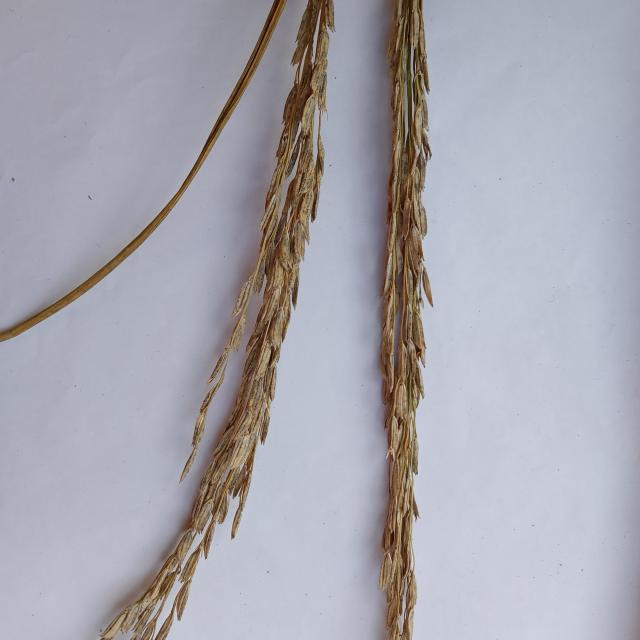Neck_Blast: (119, 0, 330, 636), (383, 2, 426, 640)
